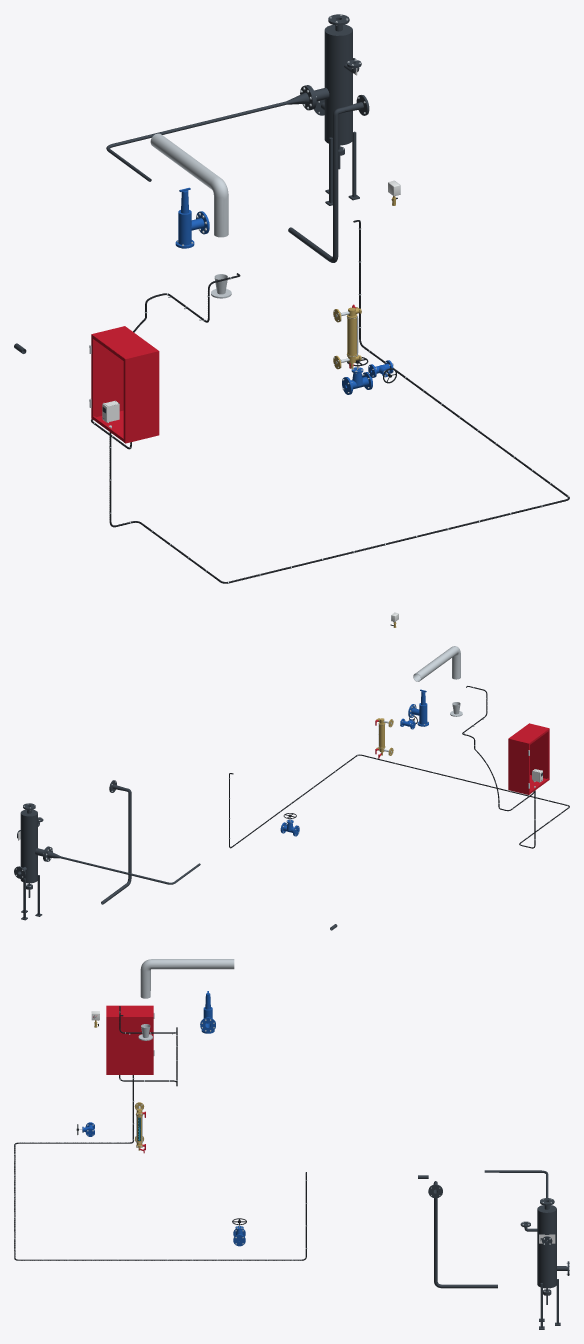
3 views of the same model, one above another, from view 1: azimuth 30°, elevation 25°; view 2: azimuth 150°, elevation 25°; view 3: azimuth 270°, elevation 25° (orthographic). The views are drawn at different scales.
Parts seen in each view (by area): view 1: control_cabinet / control_cabinet_0.npz, separator_fv8 / dark, wiring_pump_2 / black, bottom_to_bdv / dark, steam_rise / steel, tds_to_fv / dark, safety_2 / blue, sight_glasses_2 / sight_glasses_2_0.npz; view 2: control_cabinet / control_cabinet_0.npz, separator_fv8 / dark, wiring_pump_2 / black, bottom_to_bdv / dark, tds_to_fv / dark, steam_rise / steel, safety_2 / blue; view 3: control_cabinet / control_cabinet_0.npz, separator_fv8 / dark, wiring_pump_2 / black, steam_rise / steel, bottom_to_bdv / dark.
Boxes of the visible parts, x1,y1,x2,y2 form: control_cabinet / control_cabinet_0.npz: [89, 326, 159, 443]; separator_fv8 / dark: [305, 14, 361, 205]; wiring_pump_2 / black: [109, 220, 569, 583]; bottom_to_bdv / dark: [288, 95, 369, 262]; steam_rise / steel: [177, 153, 228, 237]; tds_to_fv / dark: [106, 85, 314, 181]; safety_2 / blue: [175, 187, 209, 248]; sight_glasses_2 / sight_glasses_2_0.npz: [333, 304, 361, 369]; control_cabinet / control_cabinet_0.npz: [508, 723, 549, 794]; separator_fv8 / dark: [14, 803, 48, 920]; wiring_pump_2 / black: [229, 754, 569, 848]; bottom_to_bdv / dark: [101, 780, 131, 904]; tds_to_fv / dark: [44, 846, 200, 884]; steam_rise / steel: [432, 646, 460, 679]; safety_2 / blue: [408, 689, 428, 726]; control_cabinet / control_cabinet_0.npz: [106, 1005, 154, 1074]; separator_fv8 / dark: [520, 1198, 569, 1329]; wiring_pump_2 / black: [14, 1075, 306, 1260]; steam_rise / steel: [140, 959, 197, 998]; bottom_to_bdv / dark: [428, 1181, 497, 1288].
Bounding box in the file's own units: 4.96 × 2.82 × 6.24.
